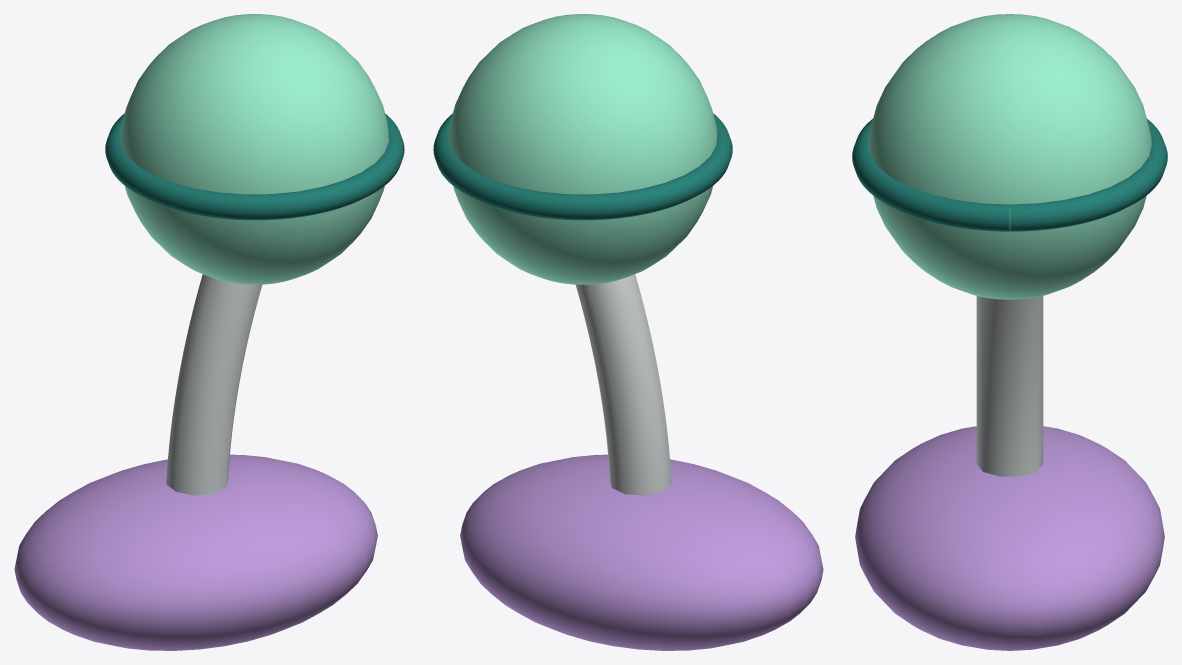
The model's file is 13-robot-antenna.glb.
3 views of the same model, side by side, from view 1: azimuth 30°, elevation 25°; view 2: azimuth 150°, elevation 25°; view 3: azimuth 270°, elevation 25° (orthographic). The views are drawn at different scales.
Parts seen in each view (by area): view 1: antenna_base, antenna_tip, antenna_stalk, antenna_stripe; view 2: antenna_base, antenna_tip, antenna_stalk, antenna_stripe; view 3: antenna_tip, antenna_base, antenna_stalk, antenna_stripe.
Boxes of the visible parts, x1,y1,x2,y2 form: antenna_base: (14,454,377,650); antenna_tip: (120,14,388,284); antenna_stalk: (166,274,262,495); antenna_stripe: (105,113,404,220); antenna_base: (460,454,823,650); antenna_tip: (449,14,717,284); antenna_stalk: (575,274,671,495); antenna_stripe: (433,113,732,220); antenna_tip: (868,14,1151,299); antenna_base: (855,426,1164,650); antenna_stalk: (976,296,1043,476); antenna_stripe: (852,119,1167,231).
Size of the model in its own units: 0.3625 by 0.57 by 0.265.
